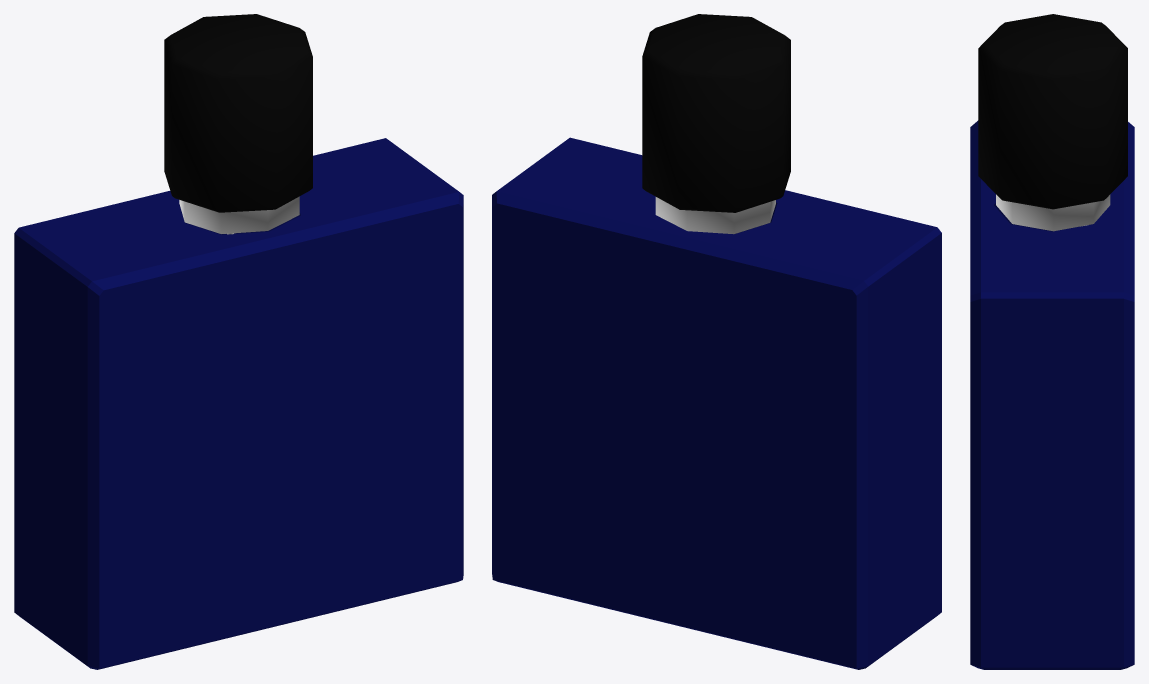
File: perfume6.glb
3 views of the same model, side by side, from view 1: azimuth 30°, elevation 25°; view 2: azimuth 150°, elevation 25°; view 3: azimuth 270°, elevation 25° (orthographic). The views are drawn at different scales.
Parts seen in each view (by area): view 1: Object001, Object004, Object002; view 2: Object001, Object004, Object002; view 3: Object001, Object004, Object002.
Boxes of the visible parts, <box> form: Object001: <box>14,138,463,669</box>; Object004: <box>164,14,312,212</box>; Object002: <box>179,196,299,234</box>; Object001: <box>492,137,941,669</box>; Object004: <box>642,14,790,212</box>; Object002: <box>655,197,775,234</box>; Object001: <box>970,120,1134,669</box>; Object004: <box>978,14,1127,209</box>; Object002: <box>996,194,1110,231</box>.
Bounding box in the file's own units: 6.05 × 8.53 × 2.35.
